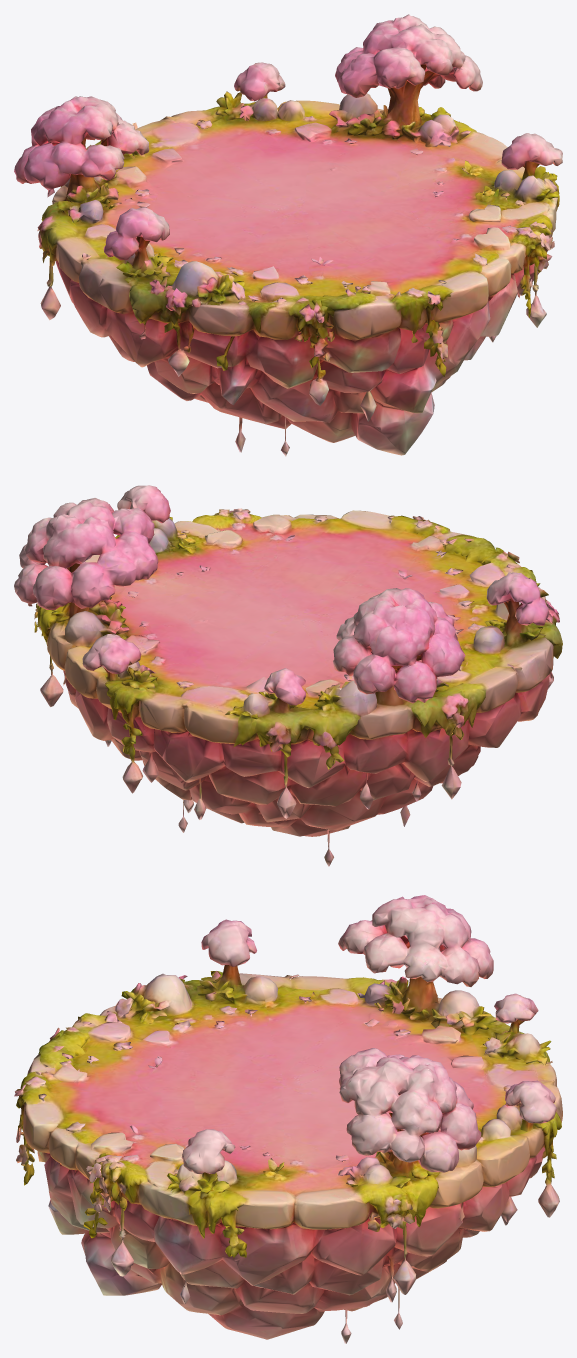
The model's file is star_love.glb.
The picture shows the model from 3 angles, top to bottom: view 1: azimuth 30°, elevation 25°; view 2: azimuth 150°, elevation 25°; view 3: azimuth 270°, elevation 25°; orthographic projection. The views are drawn at different scales.
Bounding box in the file's own units: 1 × 0.6637 × 0.9901.
1 material, 1 textured.
